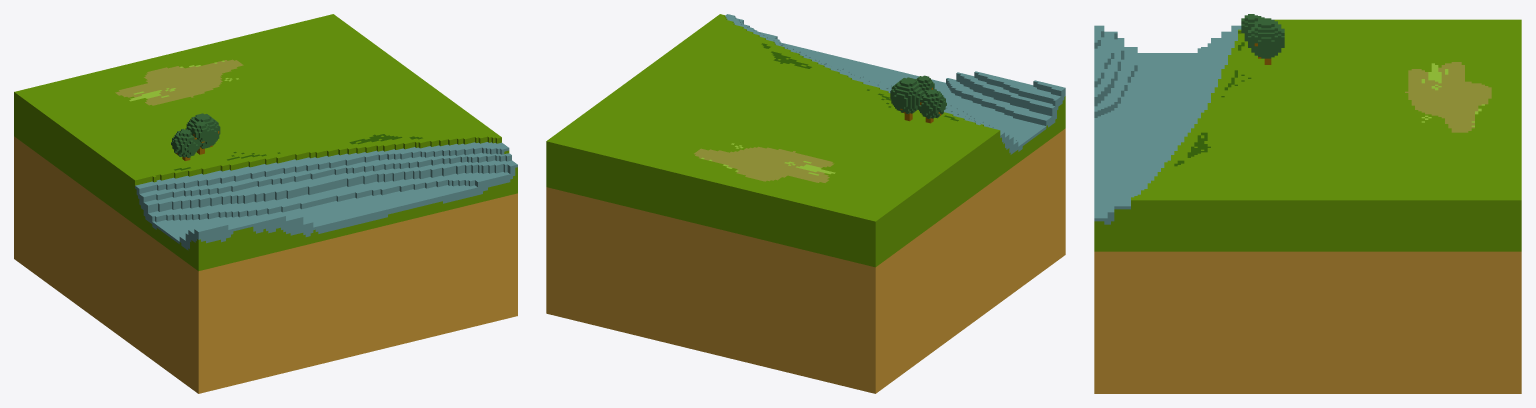
3 views of the same model, side by side, from view 1: azimuth 30°, elevation 25°; view 2: azimuth 150°, elevation 25°; view 3: azimuth 270°, elevation 25° (orthographic). The views are drawn at different scales.
Parts seen in each view (by area): view 1: 9I.001; view 2: 9I.001; view 3: 9I.001.
Part boxes in pixels (x1=…): 9I.001: x1=14, y1=14, x2=517, y2=393; 9I.001: x1=546, y1=14, x2=1065, y2=393; 9I.001: x1=1094, y1=14, x2=1521, y2=393.
Size of the model in its own units: 12.8 by 7.8 by 12.8.
1 material, 1 textured.
